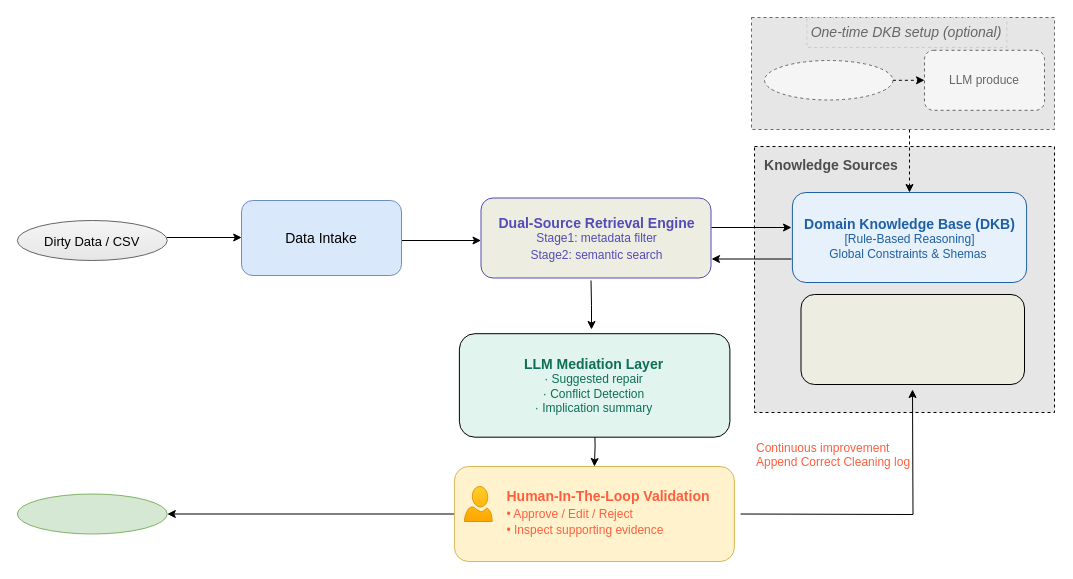
Some shapes in this 1073 by 579 pixel diagram are drawn without their labels. The shapes that lost their labels are listed below. From the top down, each one's box as (x1, y1, x2, y2) in pixels, then its label:
(764, 60, 893, 100): Clean sample
(800, 294, 1024, 384): Correction Log (CL) [Case-Based Reasoning] Historical Case Memory
(16, 493, 167, 534): Clean Data / CSV
